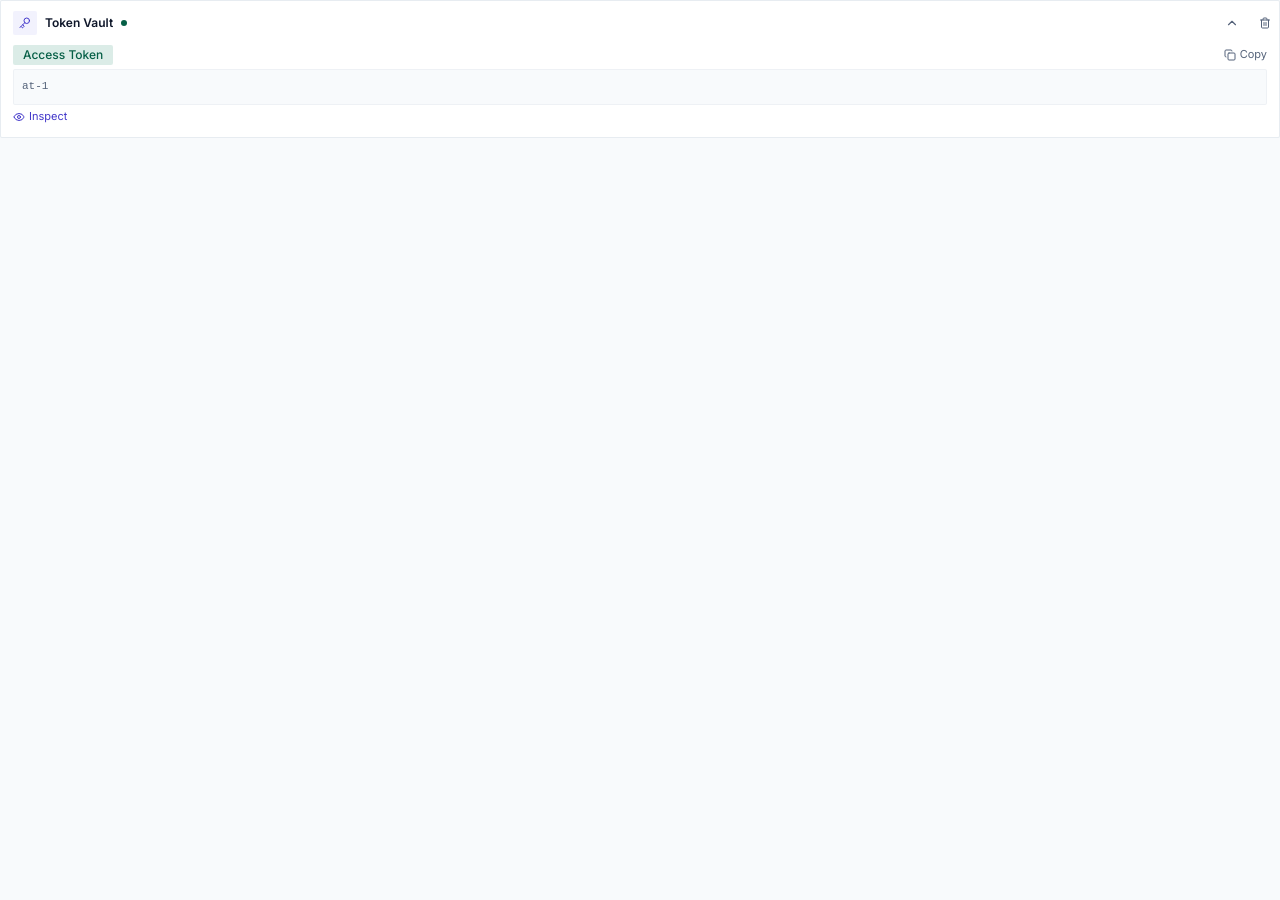
Test: TokenVault — clearing the vault › cancels without touching the session
The width and height of the screenshot is (1280, 900).
Click the button named "Clear tokens" at point(1265, 23), box [1251,1,1279,45]
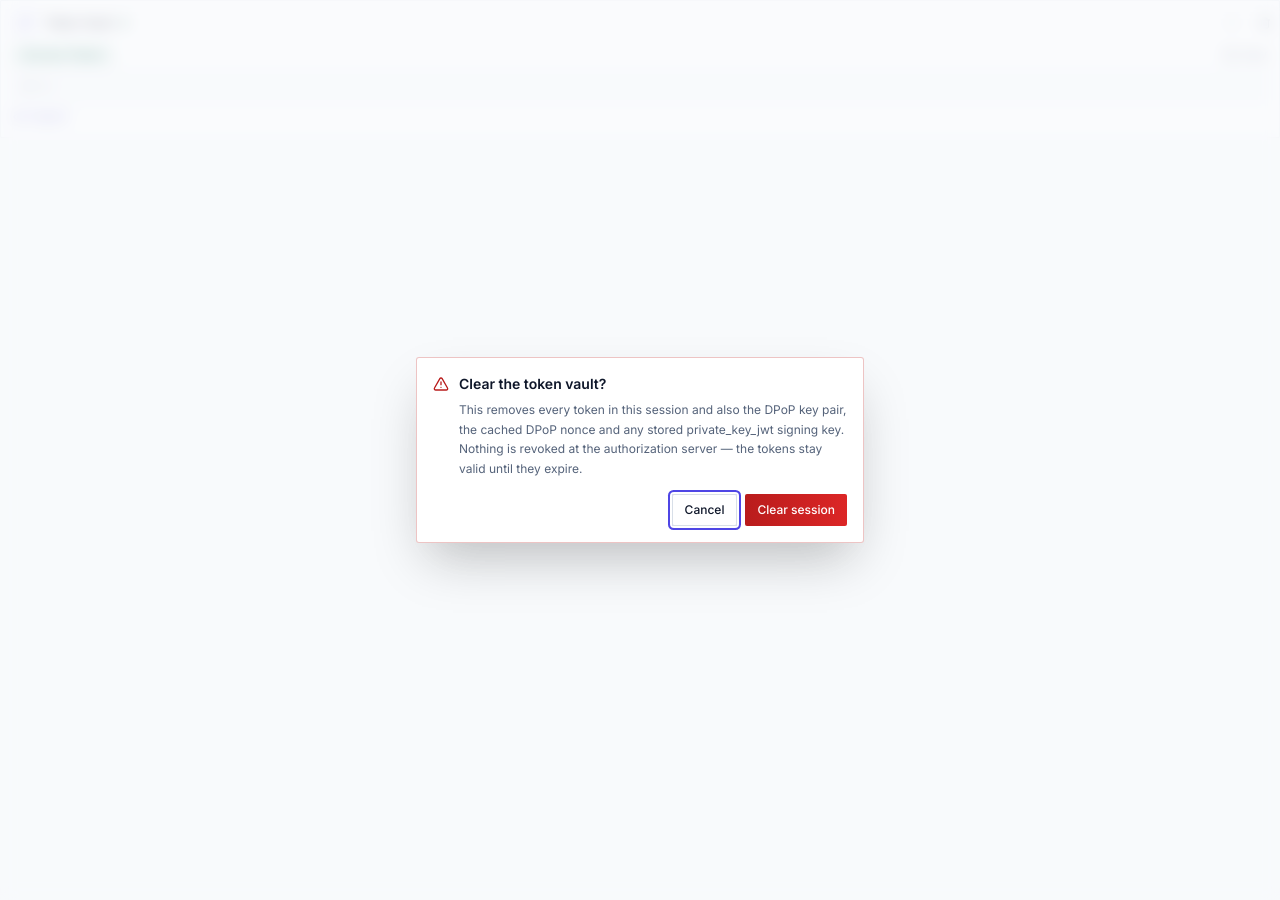
Click the button "Cancel" at point(704, 510), box [672,494,737,526]
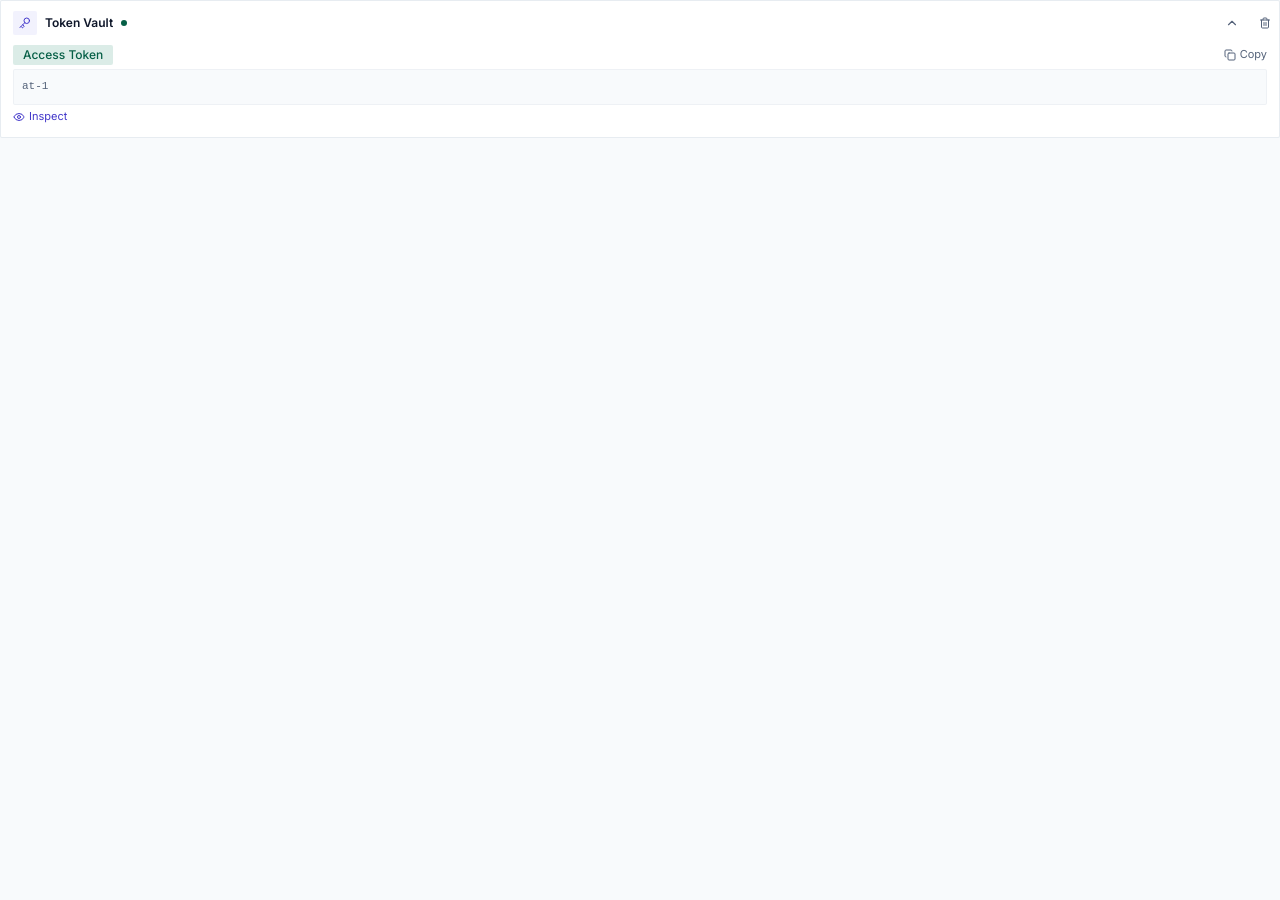
Expected: the text "Access Token" is shown, [13,45,113,65]
Now the dialog is gone
